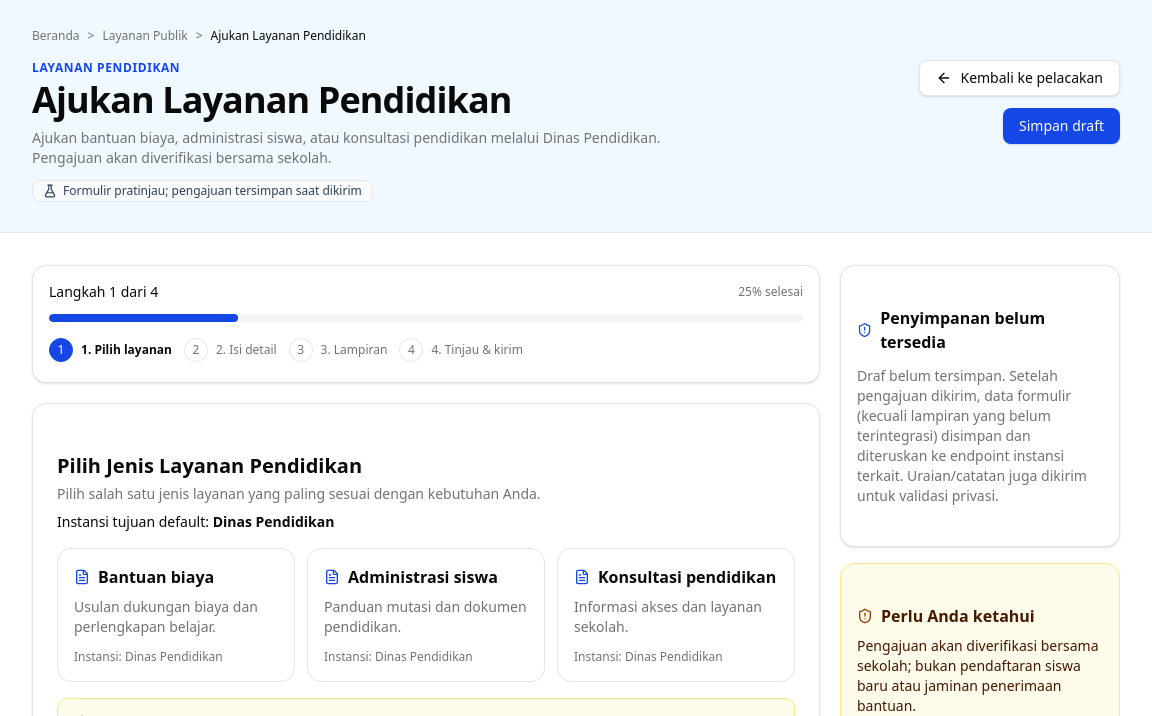
EducationApplicationPage › shows education-specific details for the selected assistance service
Click the radio button labelled "Bantuan biaya" at (176, 615), box left=57, top=548, right=295, bottom=682
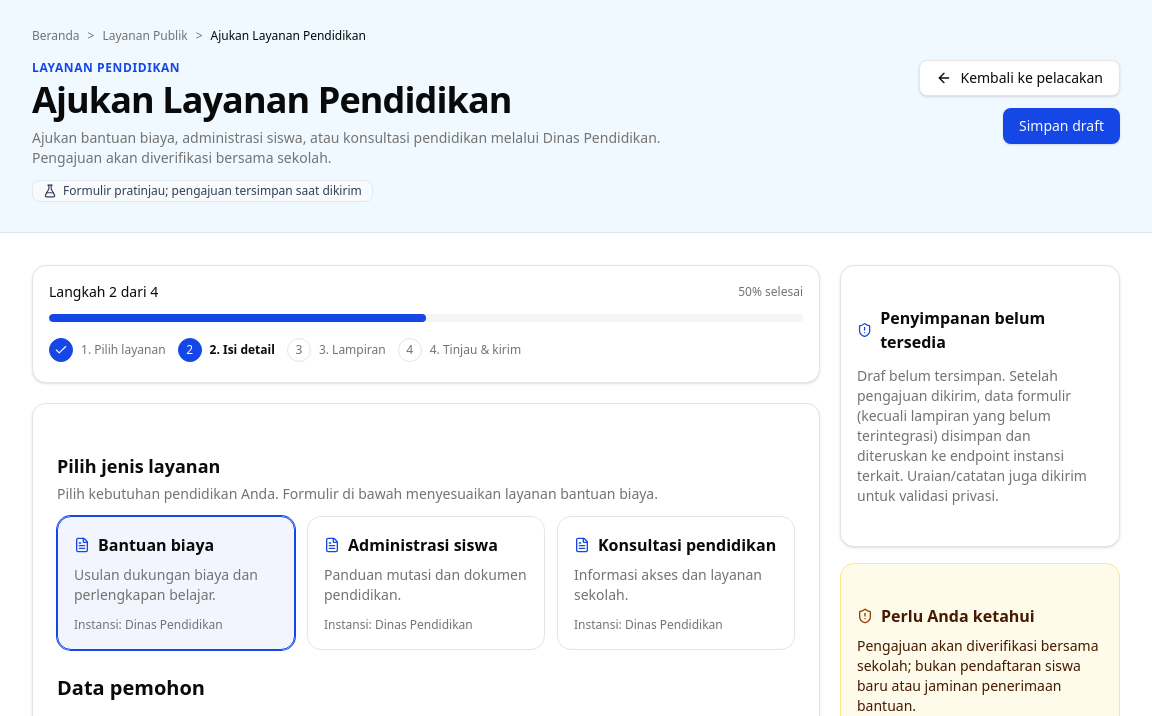
Check: the navigation bar named "Breadcrumb" is shown, box left=32, top=27, right=366, bottom=44
Check: the heading "Data pemohon" is shown, box left=57, top=674, right=205, bottom=701
